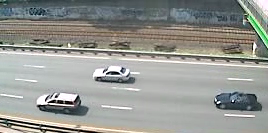car: (35, 90, 84, 117), (212, 89, 262, 113), (92, 64, 135, 85)
